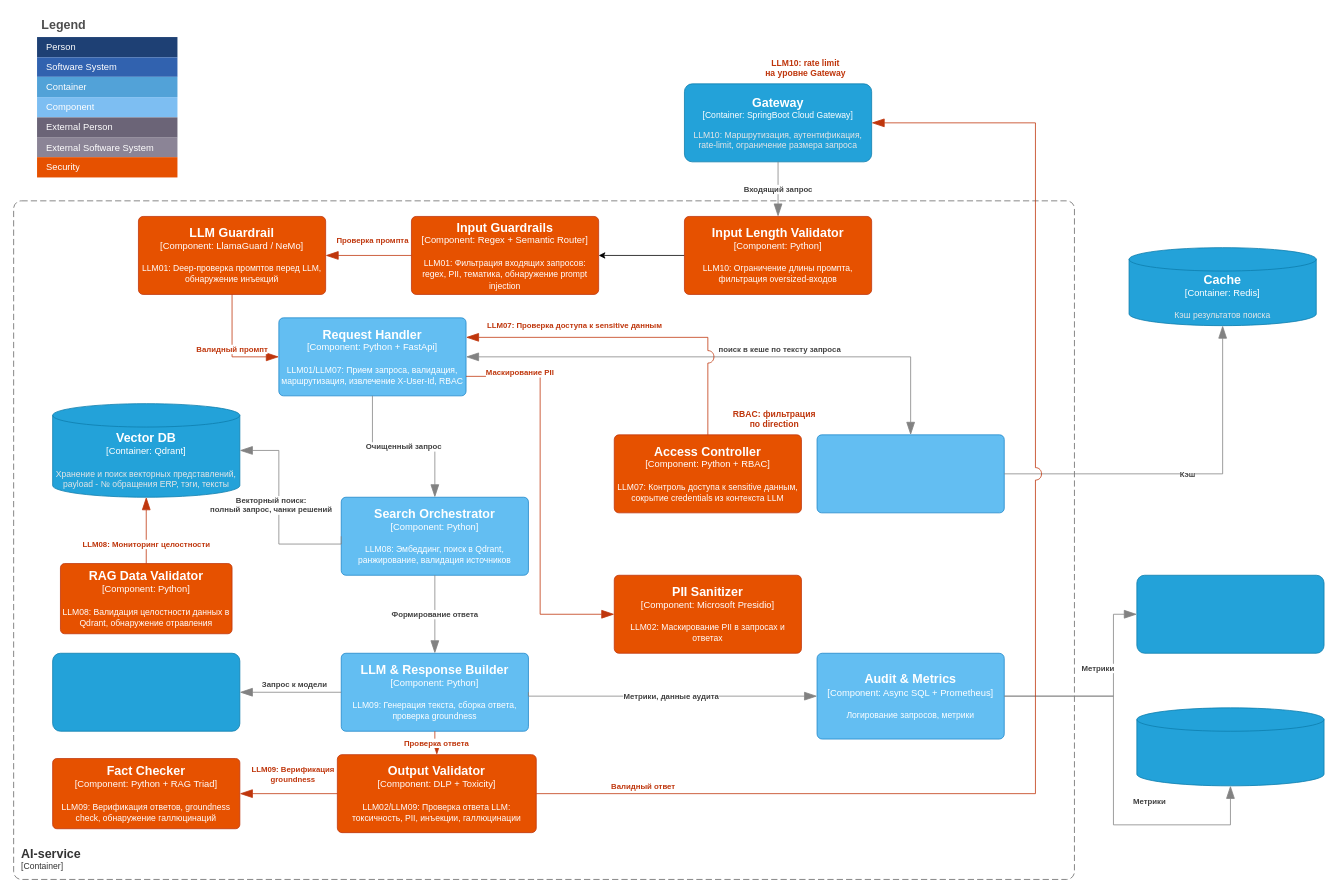
Image size: 1338x893. Some labels were removed from this diagram. The shapes that lost their labels are listed below. From the top down, each one's centre as x and y in pixels, then its label:
At pixel 910 473: "Cache Manager [Component: Redis client] Проверка / сохранение кэша".
At pixel 1230 613: "Prometheus [Container: Prometheus] Сбор метрик".
At pixel 146 691: "Model Serving [Container: Qwen, Qwen_embedding] Модели".
At pixel 1230 746: "SQL DB [Container: PostgreSQL] Сырые справочники, метаданные".
